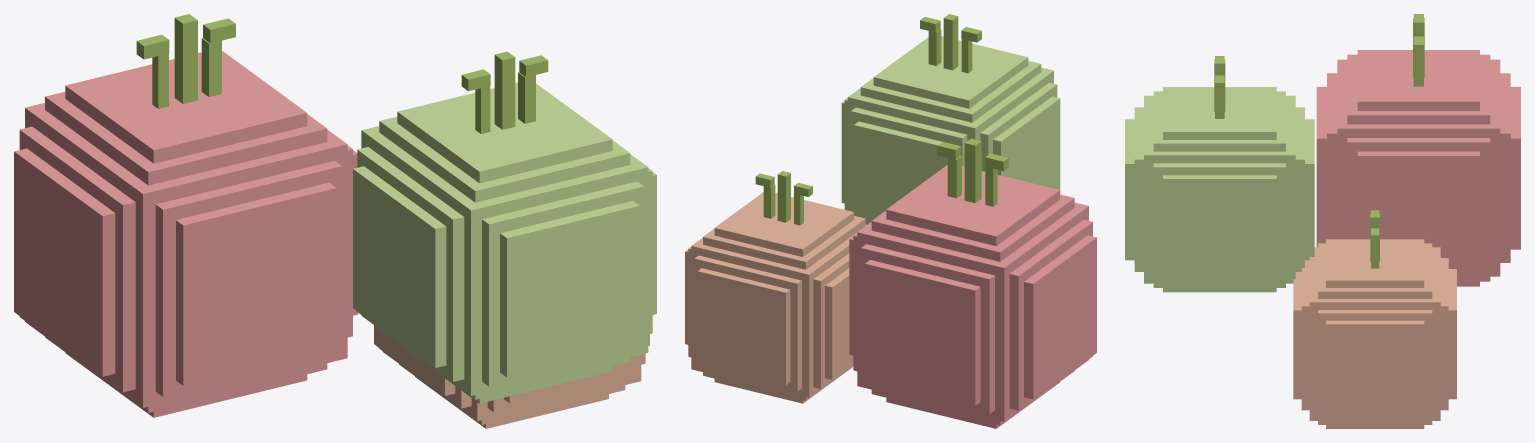
The model's file is tomatoes.gltf.
The picture shows the model from 3 angles, left to right: view 1: azimuth 30°, elevation 25°; view 2: azimuth 150°, elevation 25°; view 3: azimuth 270°, elevation 25°; orthographic projection. The views are drawn at different scales.
Visible parts, largest first — view 1: side_1 (×2), side_2, mid_4, main, mid_4_1, TOP1, TOP1_1, main_1, side, mid_5, TOP, mid_5_1 (+21 smaller); view 2: mid_1, mid_1_4, mid_4, main, TOP1, mid_1_1, TOP1_1, mid_2, TOP1_4, main_4, mid_4_1, main_1 (+25 smaller); view 3: das, das_1, das_4, TOP1, main, main_1, TOP1_1, main_4, TOP1_4, sdaasd, sdaasd_1, sdaasd_4 (+18 smaller).
Boxes of the visible parts, left/top/right/bottom form: side_1 (×2): left=482, top=181, right=644, bottom=386; side_2: left=176, top=182, right=336, bottom=385; mid_4: left=14, top=148, right=115, bottom=376; main: left=25, top=103, right=347, bottom=407; mid_4_1: left=353, top=166, right=446, bottom=367; TOP1: left=65, top=51, right=307, bottom=163; TOP1_1: left=397, top=82, right=612, bottom=183; main_1: left=361, top=126, right=648, bottom=395; side: left=155, top=160, right=341, bottom=396; mid_5: left=19, top=126, right=135, bottom=392; TOP: left=45, top=92, right=327, bottom=185; mid_5_1: left=357, top=147, right=464, bottom=381; mid_1: left=865, top=260, right=980, bottom=405; mid_1_4: left=697, top=268, right=790, bottom=385; mid_4: left=1024, top=235, right=1096, bottom=399; main: left=857, top=202, right=1088, bottom=421; TOP1: left=886, top=165, right=1059, bottom=245; mid_1_1: left=854, top=121, right=947, bottom=224; TOP1_1: left=873, top=36, right=1028, bottom=108; mid_2: left=861, top=244, right=994, bottom=413; TOP1_4: left=714, top=192, right=853, bottom=256; main_4: left=691, top=224, right=866, bottom=397; mid_4_1: left=993, top=96, right=1060, bottom=193; main_1: left=847, top=67, right=1053, bottom=211; das: left=1357, top=151, right=1479, bottom=266; das_1: left=1163, top=175, right=1276, bottom=275; das_4: left=1326, top=320, right=1424, bottom=413; TOP1: left=1357, top=50, right=1479, bottom=110; main: left=1337, top=59, right=1500, bottom=276; main_1: left=1144, top=95, right=1295, bottom=283; TOP1_1: left=1163, top=87, right=1276, bottom=139; main_4: left=1309, top=247, right=1440, bottom=420; TOP1_4: left=1326, top=239, right=1424, bottom=287; sdaasd: left=1347, top=138, right=1490, bottom=271; sdaasd_1: left=1153, top=163, right=1285, bottom=279; sdaasd_4: left=1318, top=310, right=1432, bottom=416.
Bounding box in the file's own units: 188 × 152 × 178.
